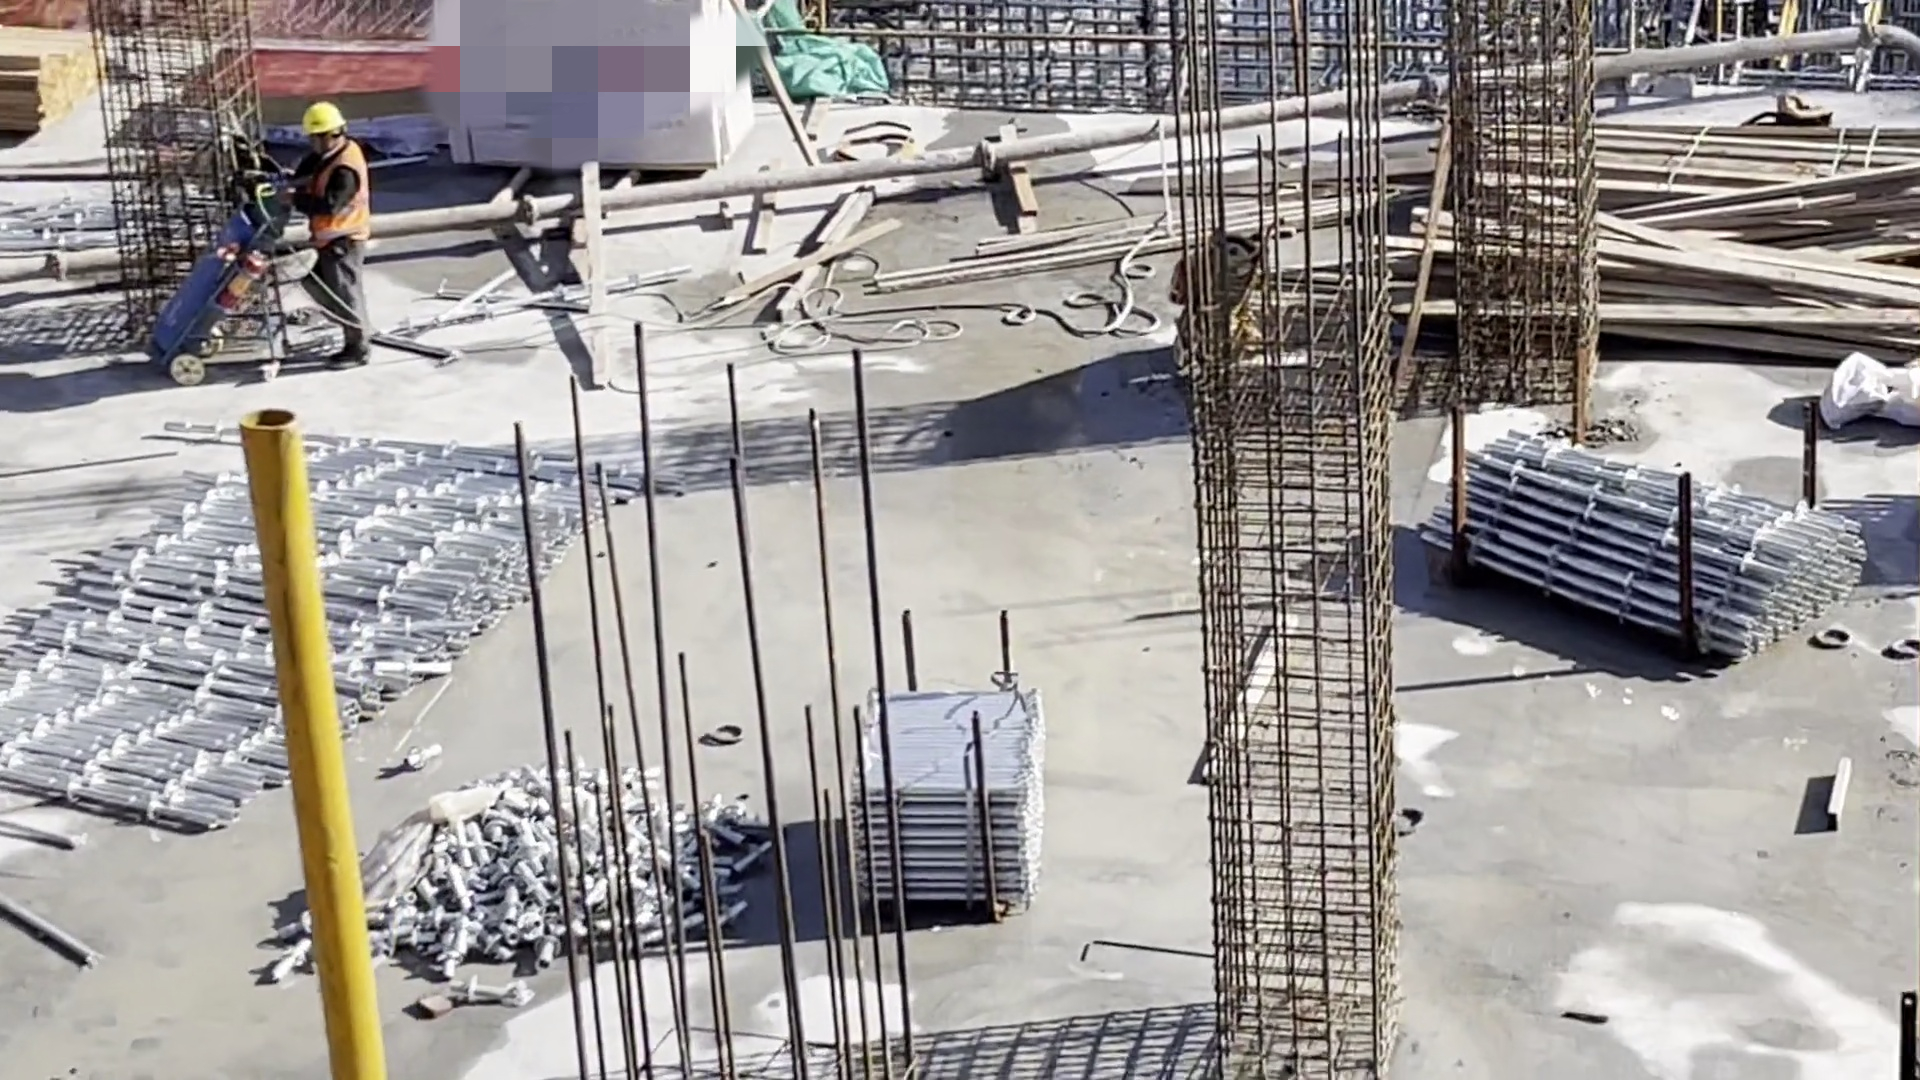helmet: (302, 99, 346, 140)
person: (293, 106, 371, 367)
scaffold: (2, 409, 683, 835), (1410, 422, 1865, 665), (847, 675, 1047, 909)
vest: (310, 146, 370, 247)
wood: (1424, 100, 1918, 375), (1, 27, 103, 134)
